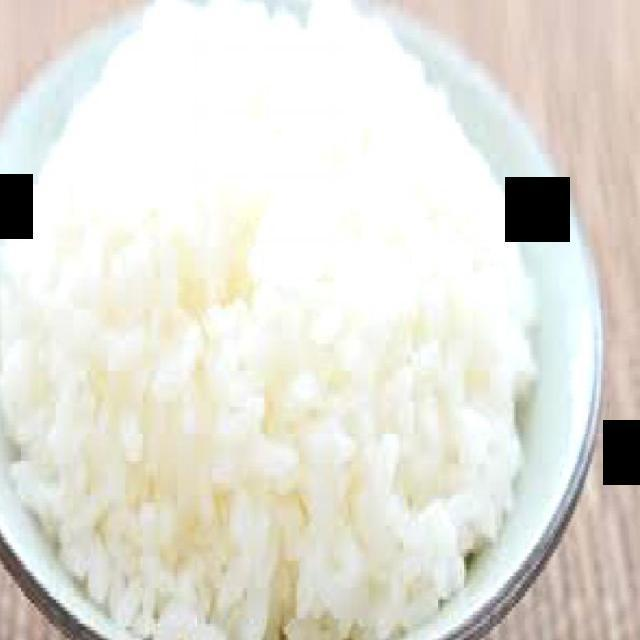Chicken -Chicken Inasal-: (0, 190, 534, 639)
